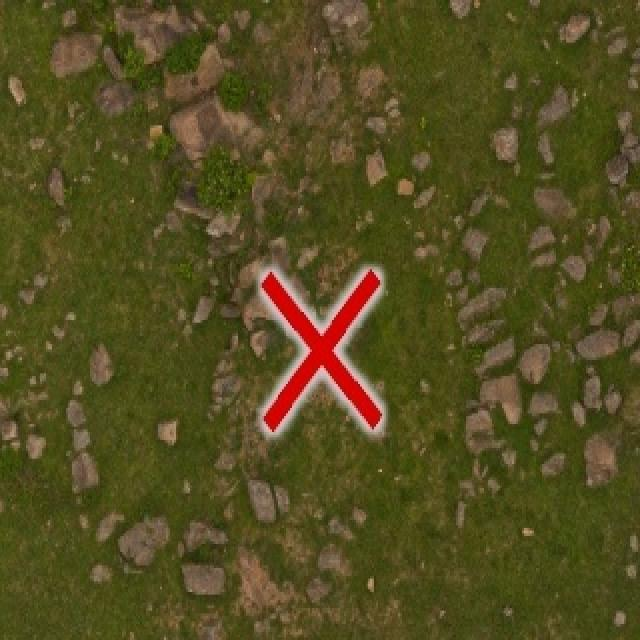x_marker: (261, 270, 381, 430)
